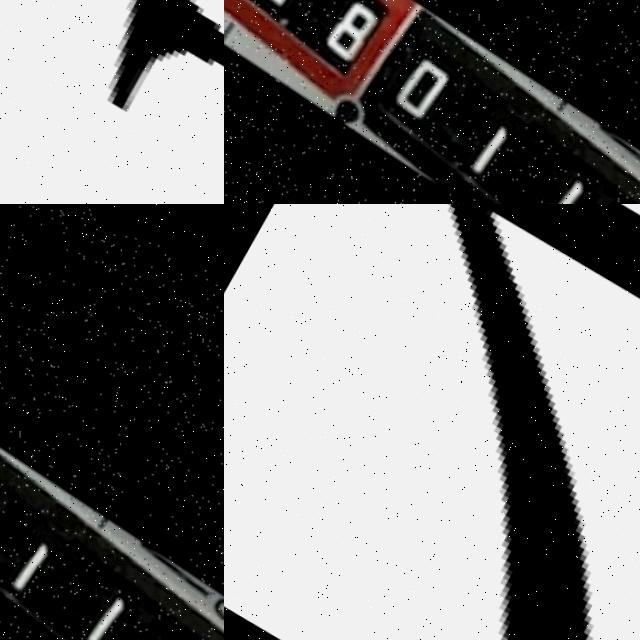0: (390, 42, 463, 124)
1: (466, 105, 527, 181), (7, 522, 68, 598), (83, 575, 142, 640), (542, 158, 601, 204)
7: (224, 204, 640, 640)
8: (322, 0, 389, 63)
F: (0, 0, 224, 204)
